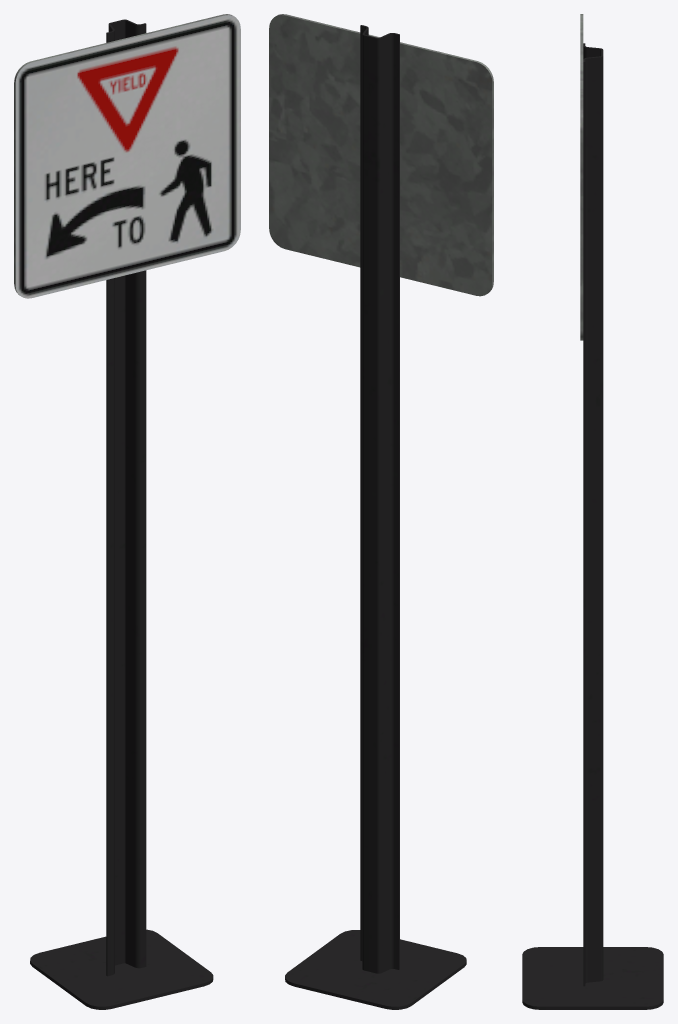
The picture shows the model from 3 angles, left to right: view 1: azimuth 30°, elevation 25°; view 2: azimuth 150°, elevation 25°; view 3: azimuth 270°, elevation 25°; orthographic projection. The views are drawn at different scales.
Parts seen in each view (by area): view 1: Sign_YieldHereToPedestrians6; view 2: Sign_YieldHereToPedestrians6; view 3: Sign_YieldHereToPedestrians6.
Part boxes in pixels (x1=…): Sign_YieldHereToPedestrians6: x1=14, y1=14, x2=240, y2=1009; Sign_YieldHereToPedestrians6: x1=269, y1=14, x2=493, y2=1009; Sign_YieldHereToPedestrians6: x1=522, y1=14, x2=663, y2=1009.
Size of the model in its own units: 0.4572 by 1.84 by 0.254.
Materials: 1 (1 with a texture image).
